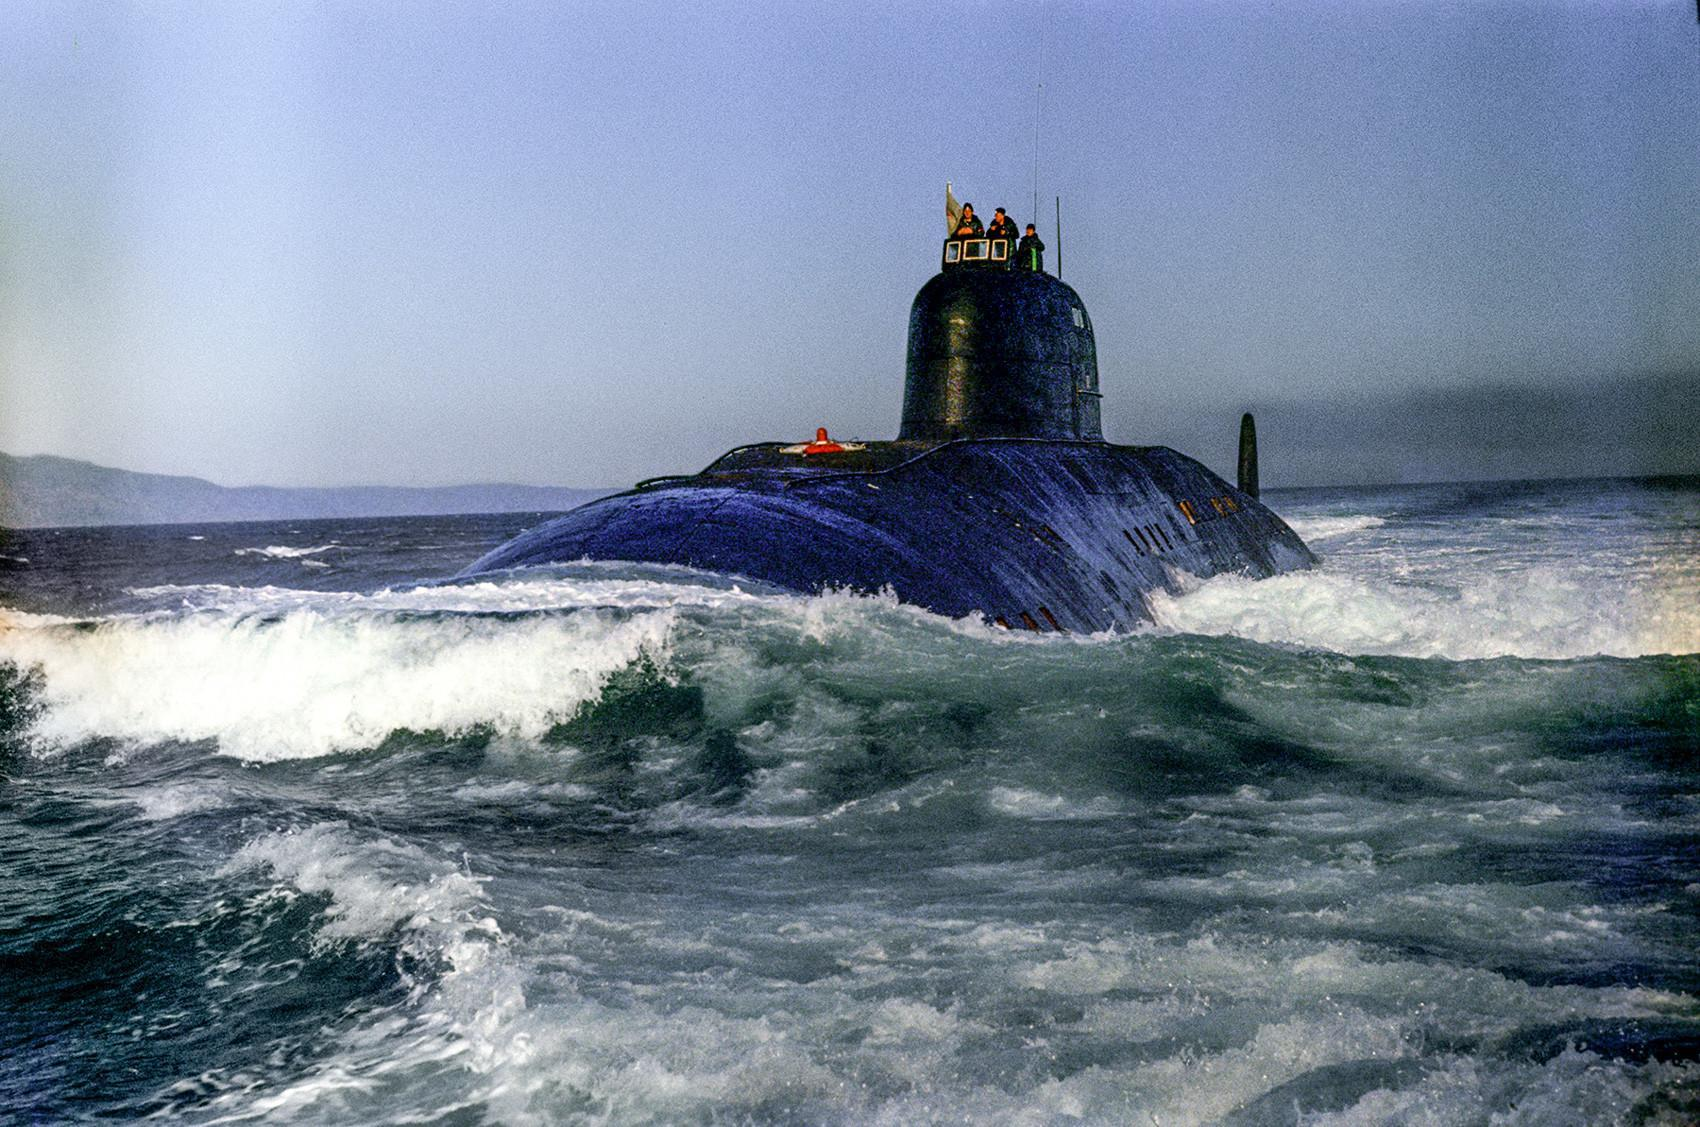Submarine: (301, 53, 1513, 919)
